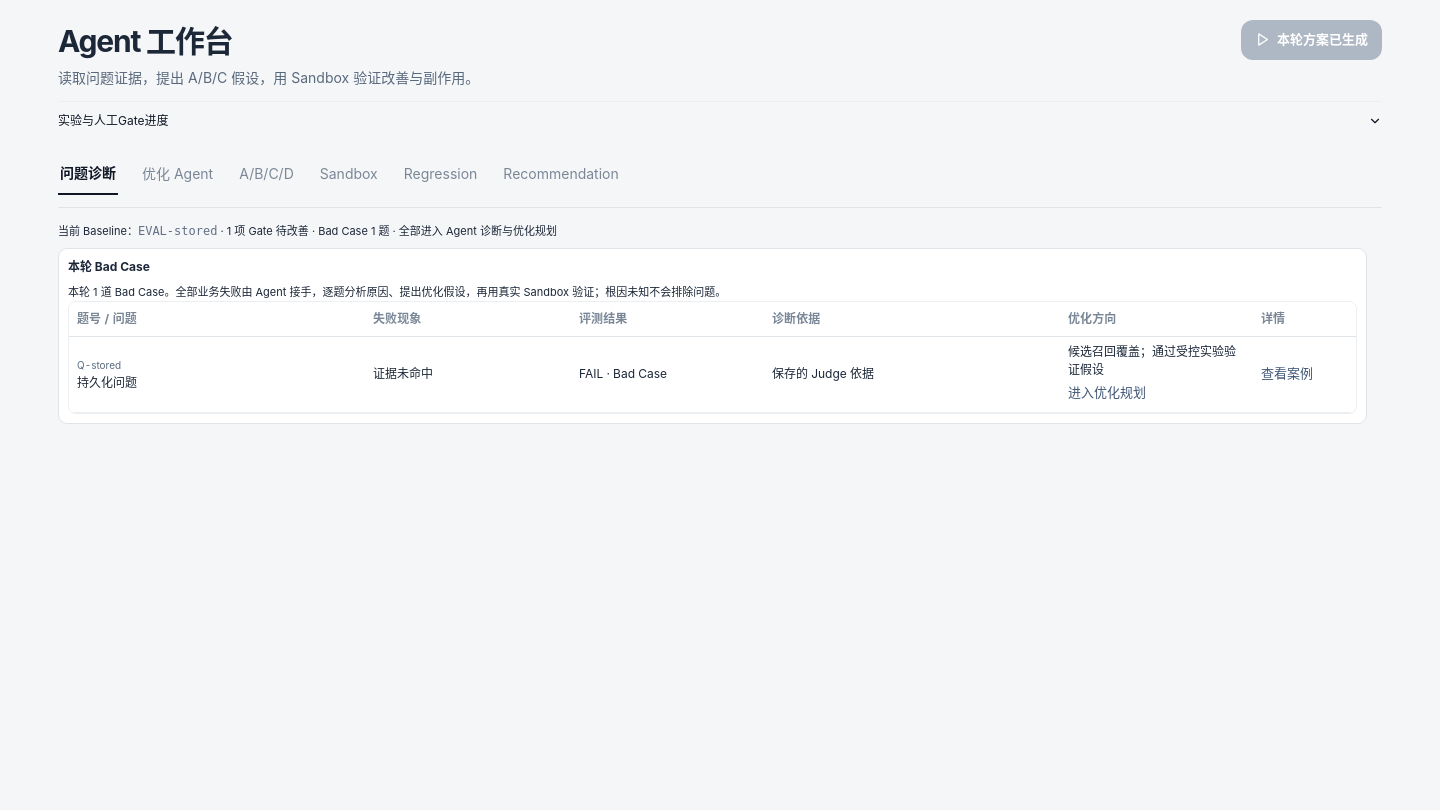
Test: reports Composite D evaluated without inventing failure or replacing the saved Winner
The image size is (1440, 810).
Click the button "A/B/C/D".
click(266, 174)  # box [237,152,296,195]
(page scrolled)
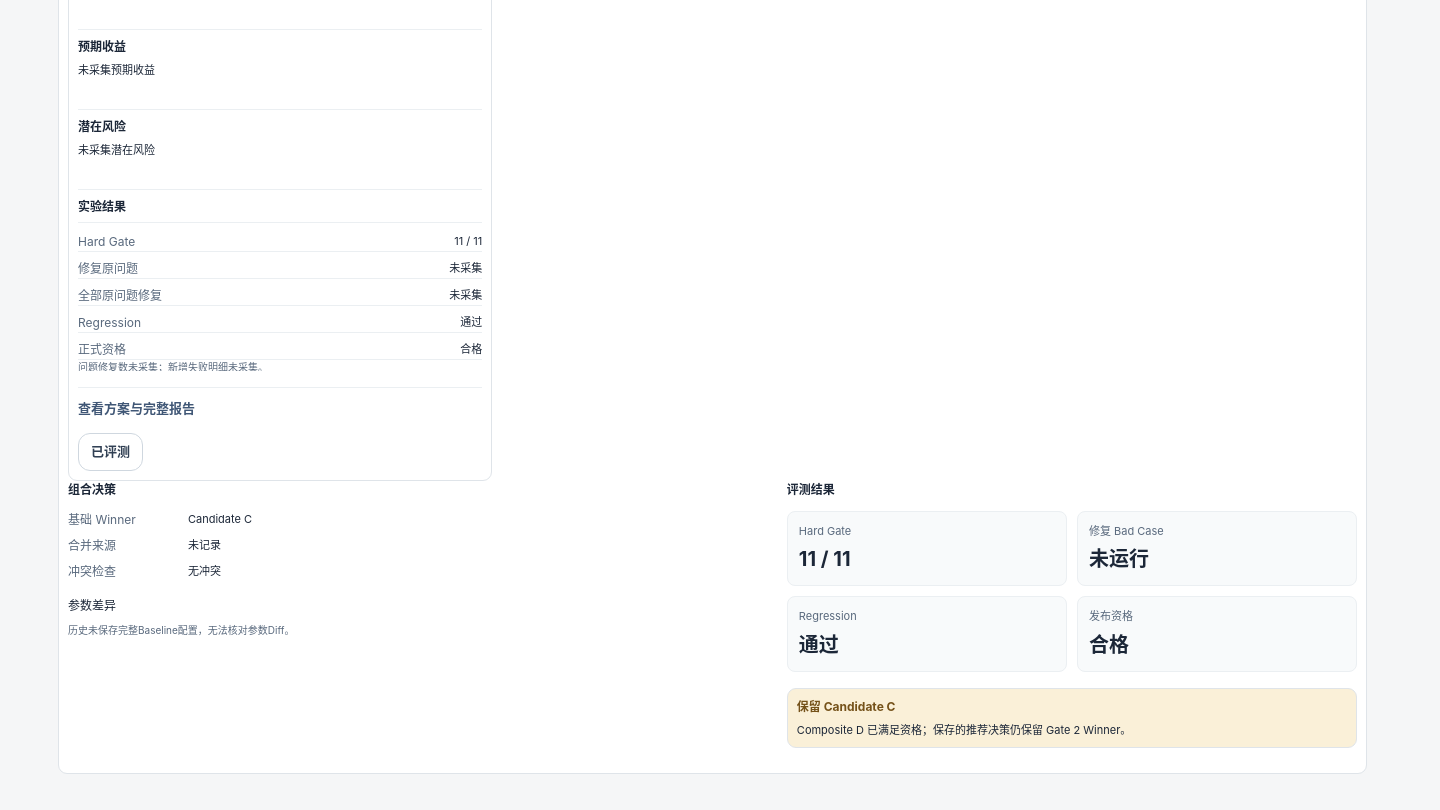
Expected: the element with class "composite-decision" shows "保留 Candidate C", [797,699,896,714]
